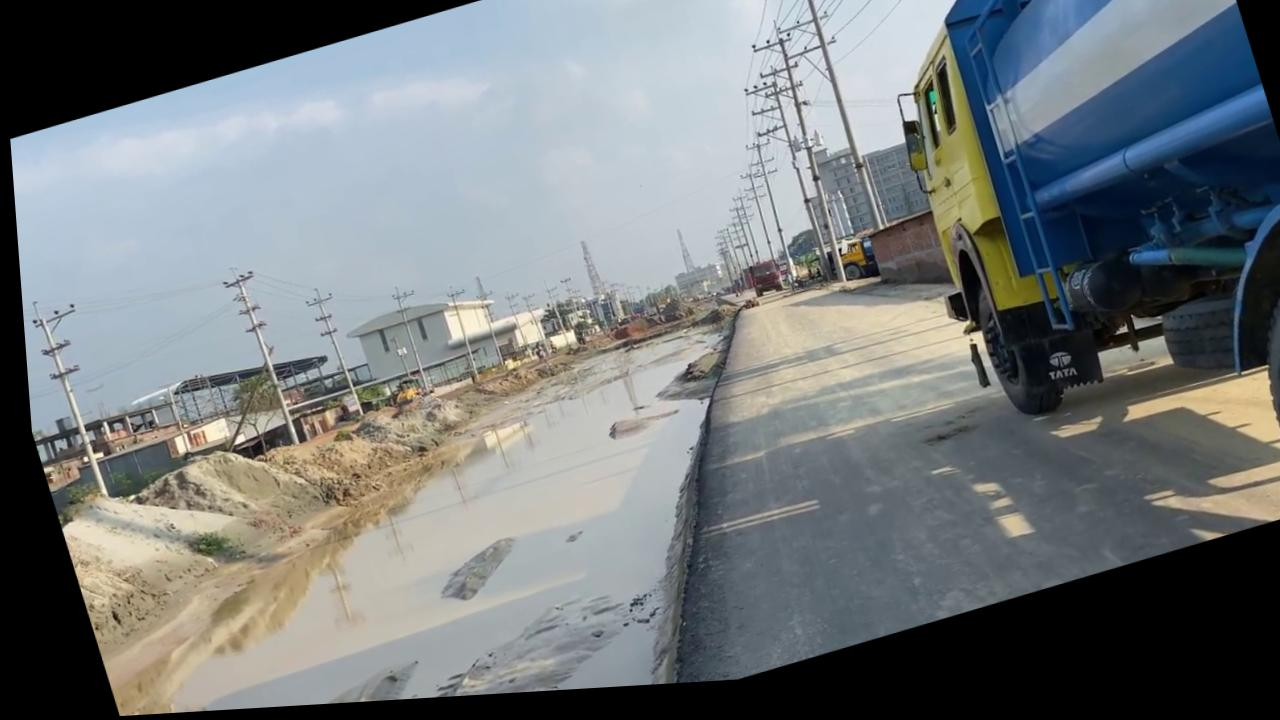Curb: (530, 298, 842, 696)
Pole: (756, 0, 890, 252), (18, 288, 123, 505), (214, 263, 298, 455), (295, 285, 361, 426)
Rickshaw: (545, 165, 1280, 695)
Sidewalk: (38, 313, 817, 719)
Tree: (823, 0, 1280, 609), (805, 239, 875, 300), (639, 298, 690, 335), (740, 266, 780, 306), (379, 378, 421, 411)
Upstairs: (858, 218, 949, 313)
